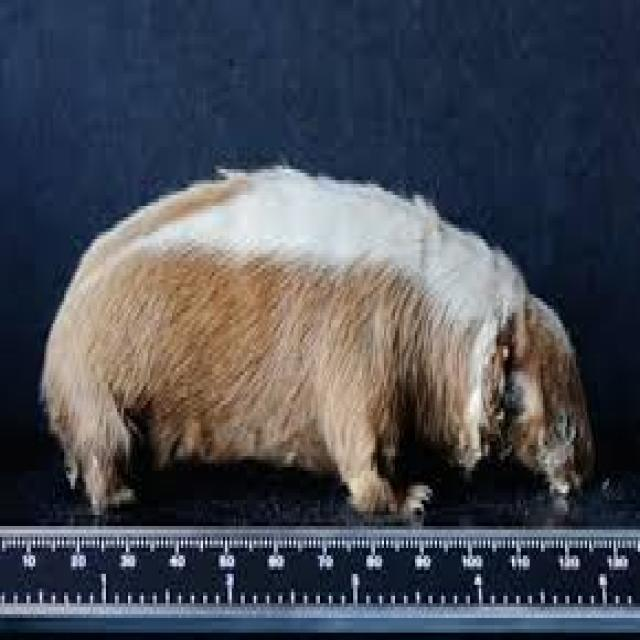Rat: (99, 113, 575, 506)
